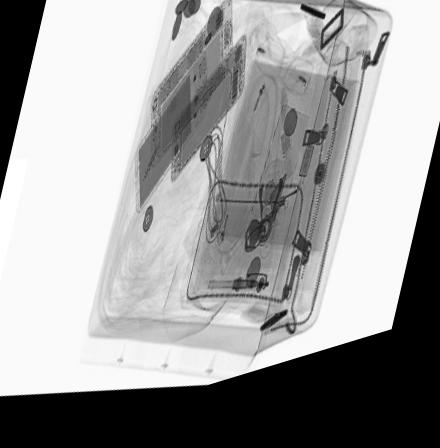Powerbank: (134, 57, 211, 227)
